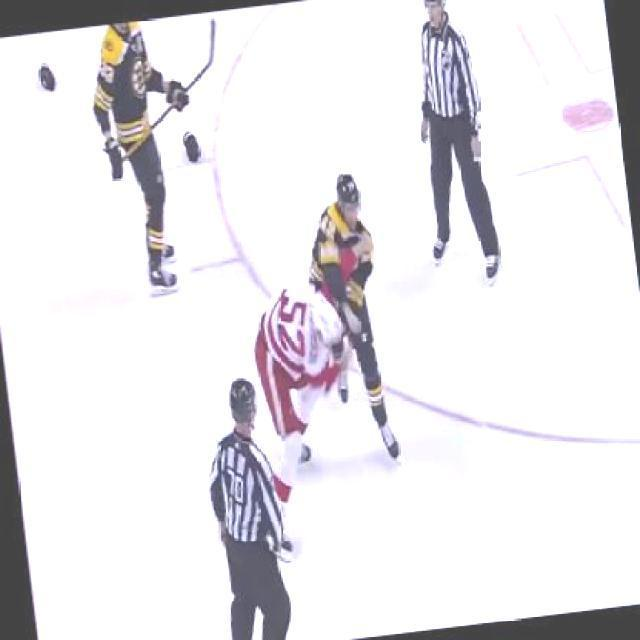fight: (232, 170, 406, 487)
